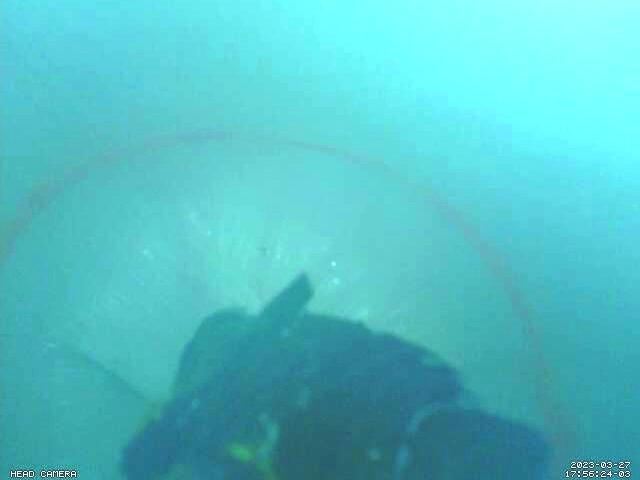head: (0, 129, 568, 480)
